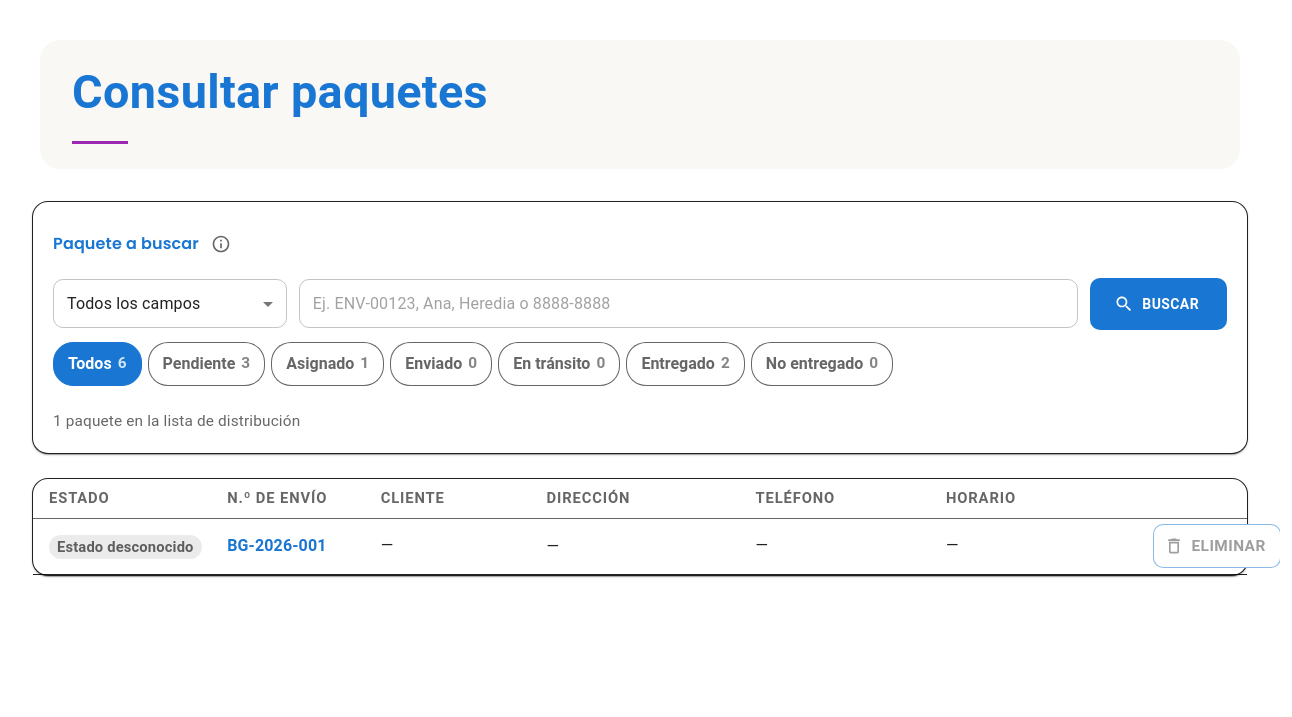
Test: PackageSearchPage › also clears the empty state when the bar clear button is used
The width and height of the screenshot is (1292, 717).
Type "Limon" into the field named "Buscar paquetes".
click(689, 304); type("Limon")  # box [299, 280, 1078, 328]
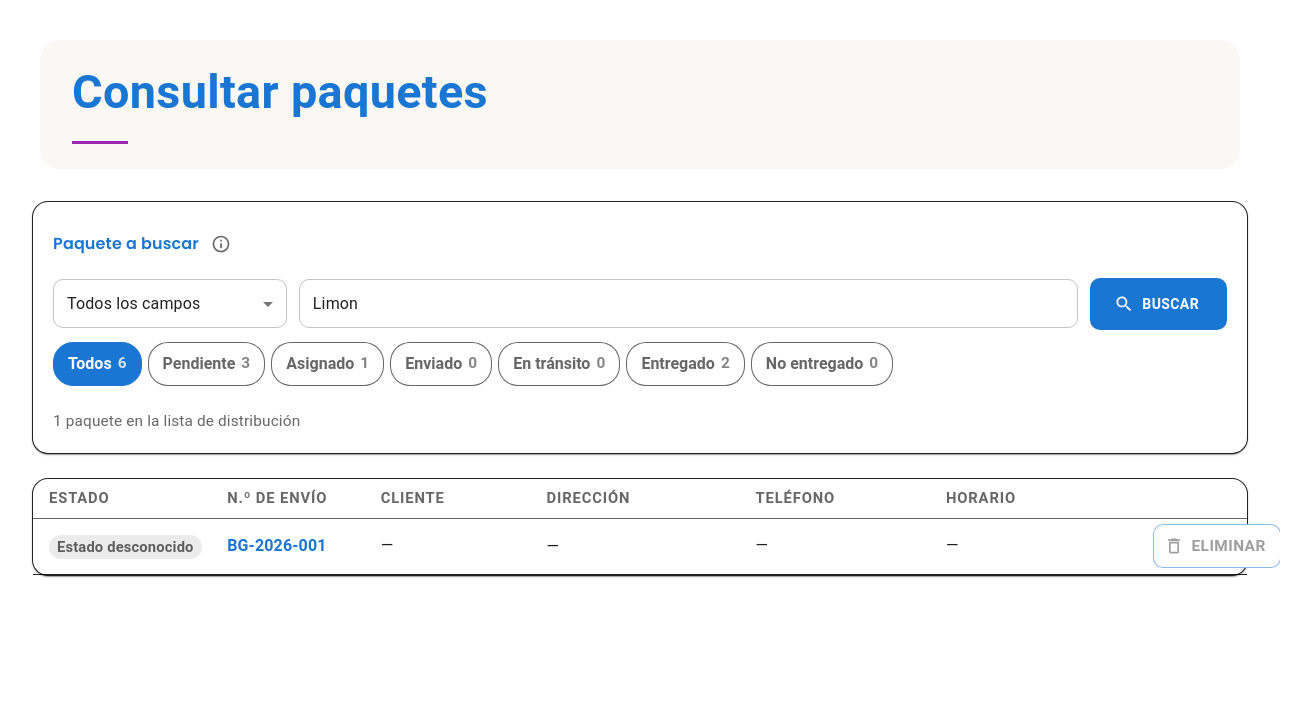
Click the button "Buscar".
click(1159, 304)  # box [1090, 278, 1227, 330]
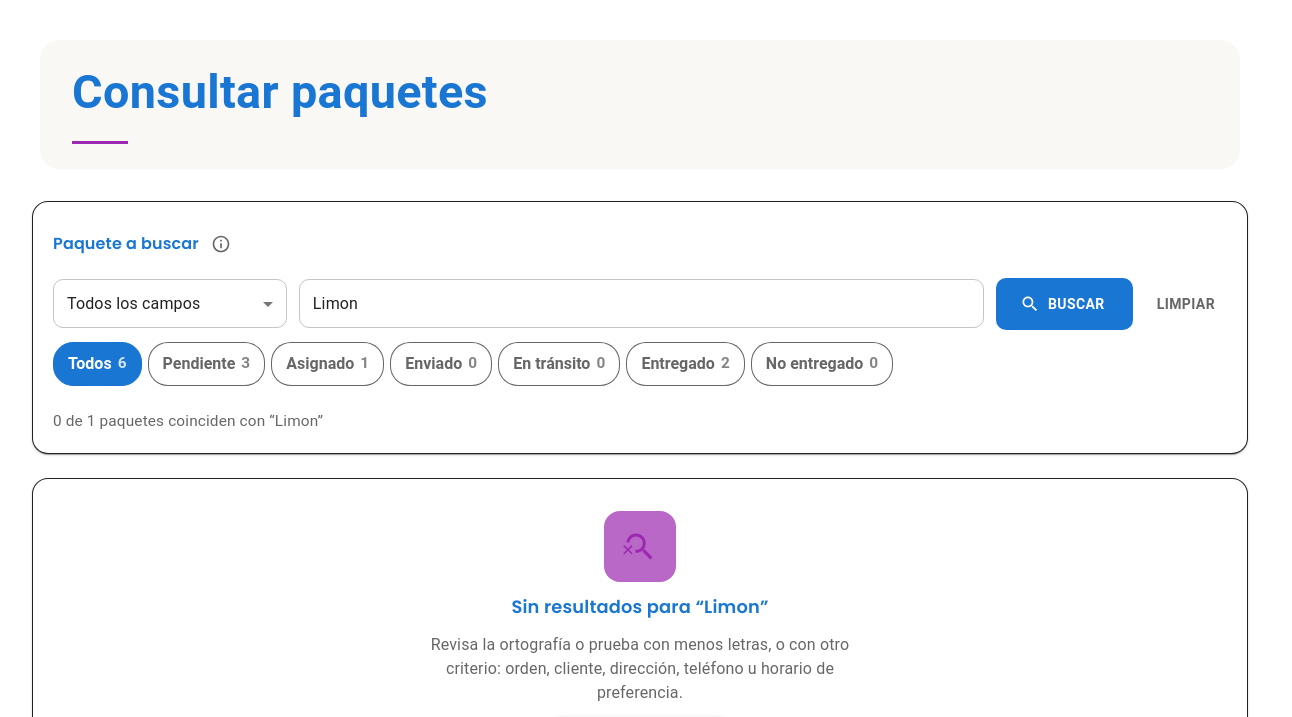
expect the text "Sin resultados para “Limon”" is shown: met, box [511, 594, 769, 619]
Click the button "Limpiar".
click(1186, 304)  # box [1145, 286, 1227, 322]
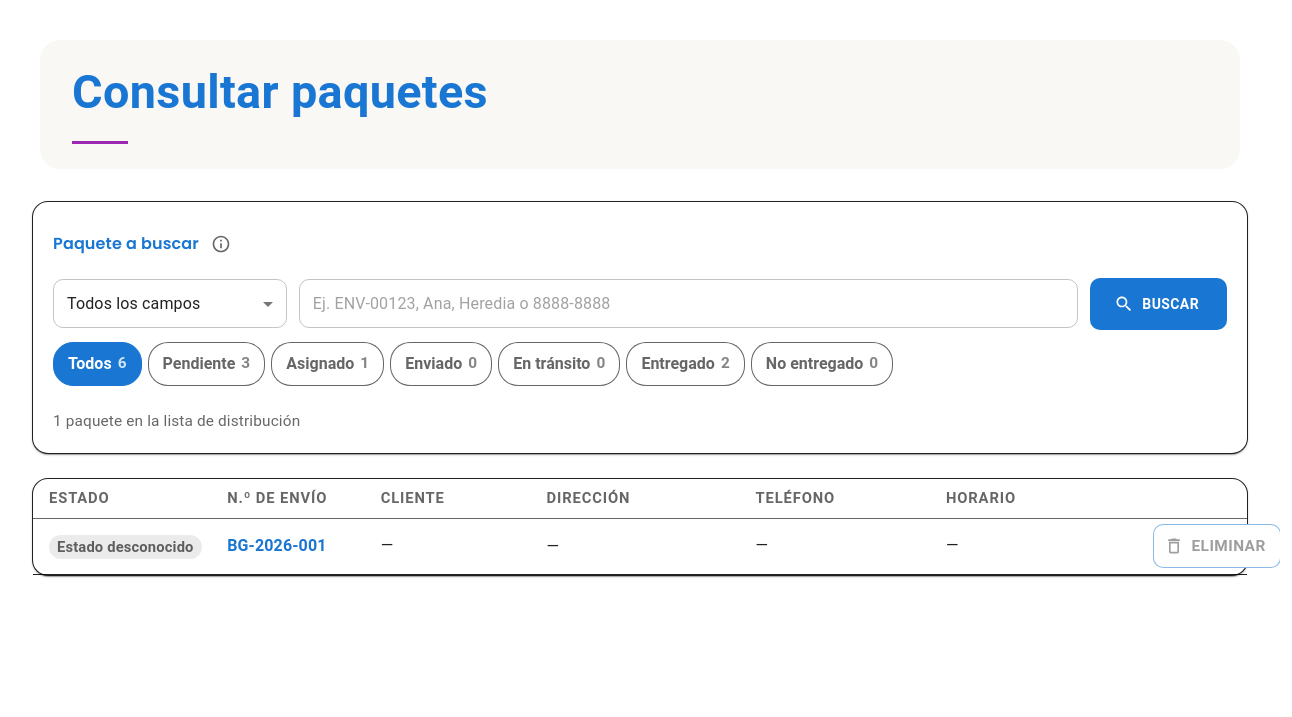
expect the field named "Buscar paquetes" is empty: met, box [299, 280, 1078, 328]
expect the text "Sin resultados para “Limon”" is gone: met
